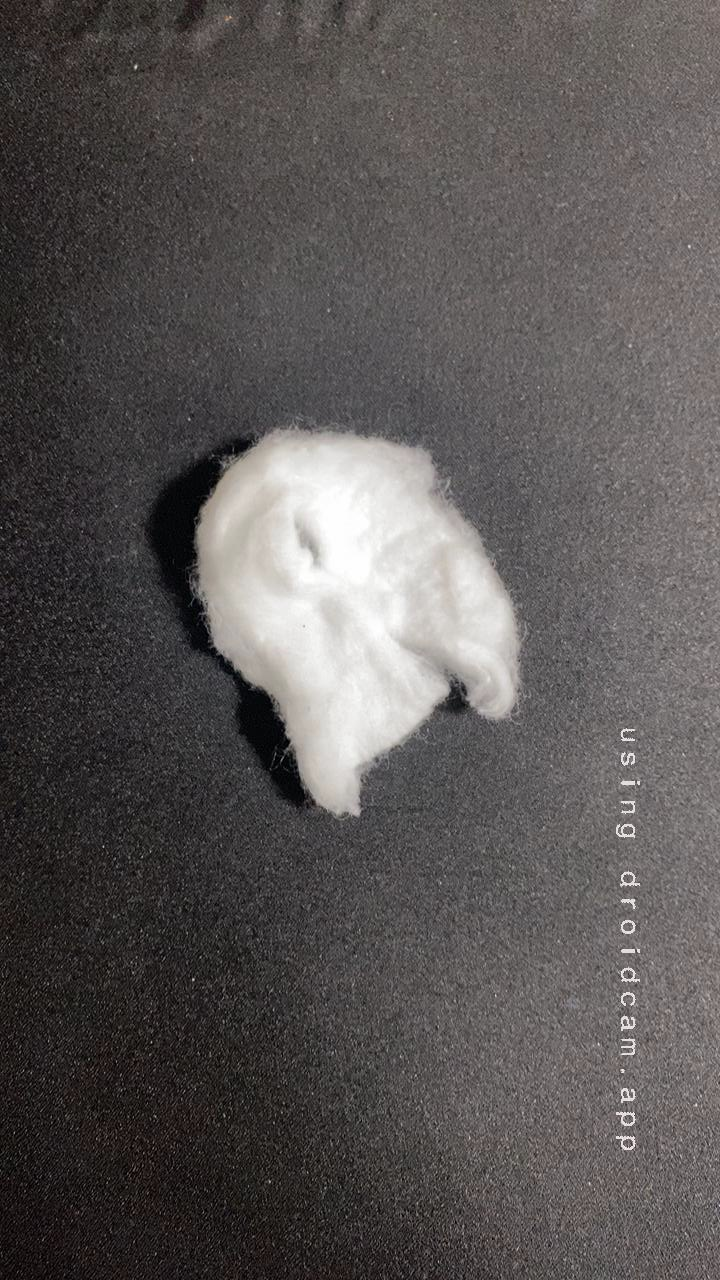cotton: (148, 409, 557, 840)
